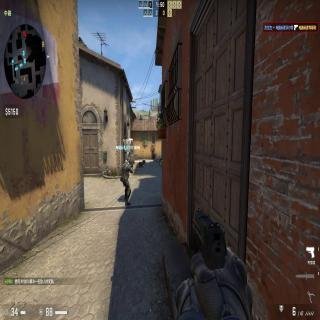CT-Body: (120, 156, 134, 206)
T-Body: (150, 146, 154, 159)
